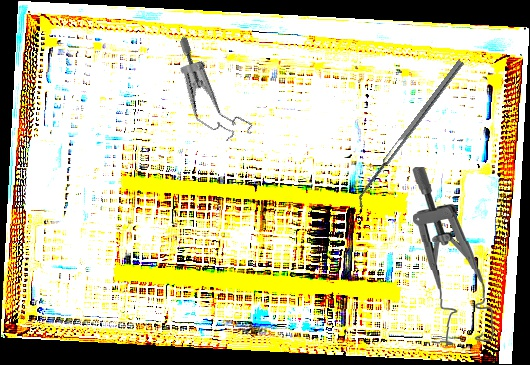Spatula Surgical: (352, 59, 470, 210)
Speculum: (410, 164, 495, 347), (147, 35, 277, 151)
